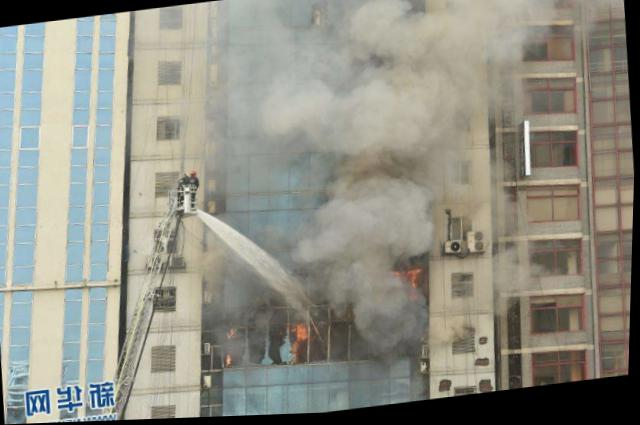fire: (388, 266, 425, 304), (289, 316, 321, 343)
